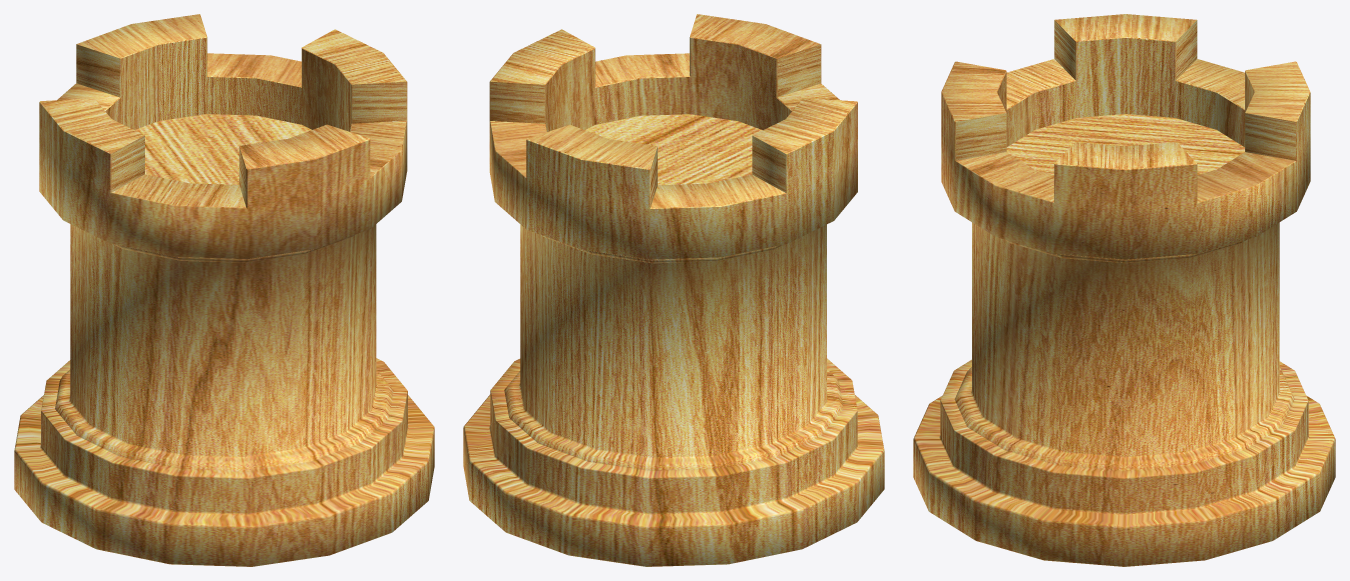
File: rook.fbx
3 renders of one model, left to right at view 1: azimuth 30°, elevation 25°; view 2: azimuth 150°, elevation 25°; view 3: azimuth 270°, elevation 25°, orthographic.
Visible parts, largest first — view 1: Cylinder; view 2: Cylinder; view 3: Cylinder.
Boxes of the visible parts, x1,y1,x2,y2 form: Cylinder: [14, 14, 434, 566]; Cylinder: [463, 14, 884, 566]; Cylinder: [913, 14, 1335, 566].
Bounding box in the file's own units: 1.66 × 1.68 × 1.66.
